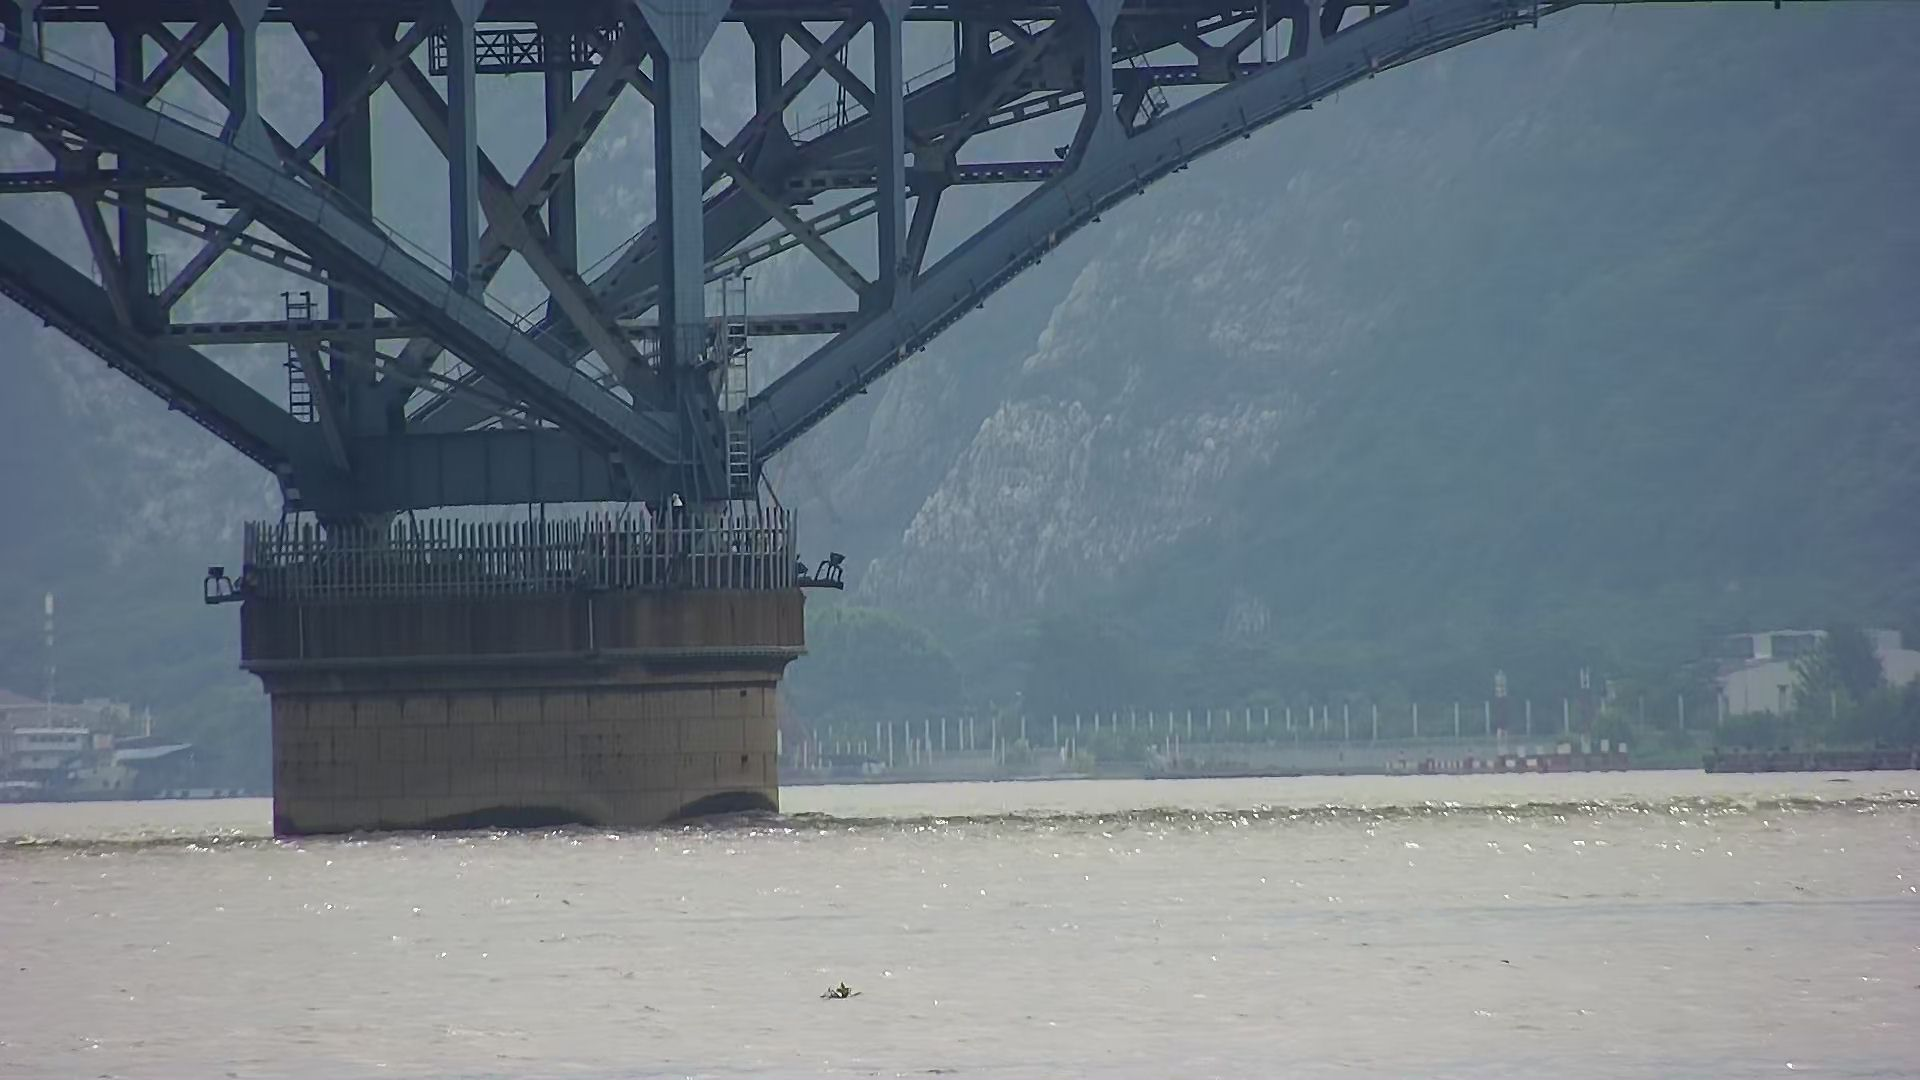bridge: (1, 3, 1920, 837)
grass: (818, 978, 858, 1000)
